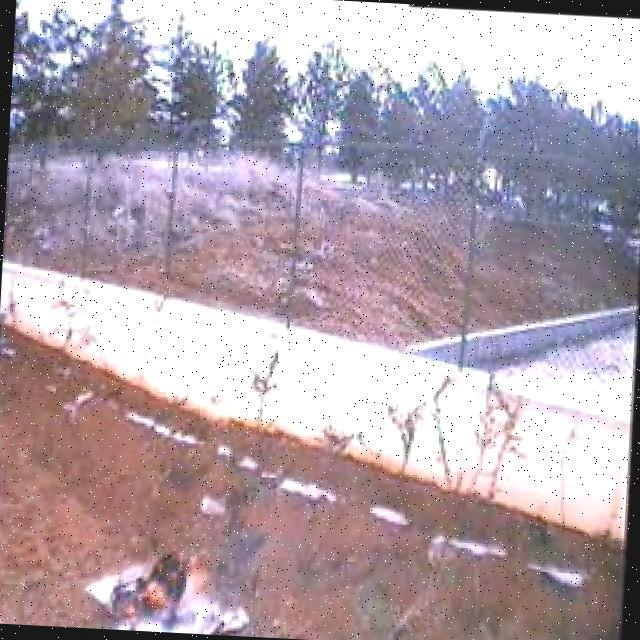Fire: (97, 538, 219, 635)
